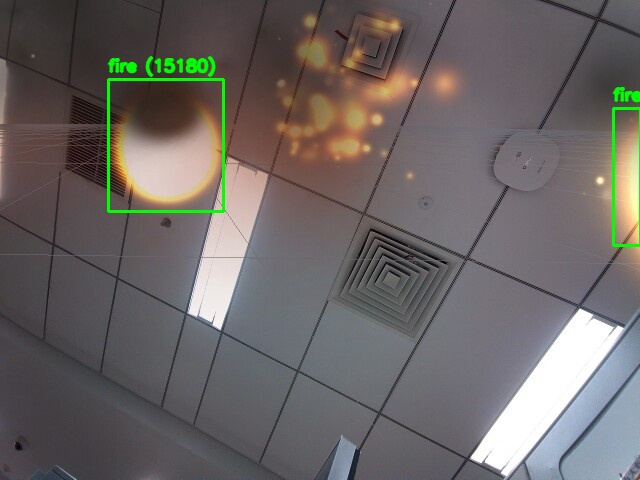fire: (108, 79, 223, 211), (613, 108, 640, 245)
